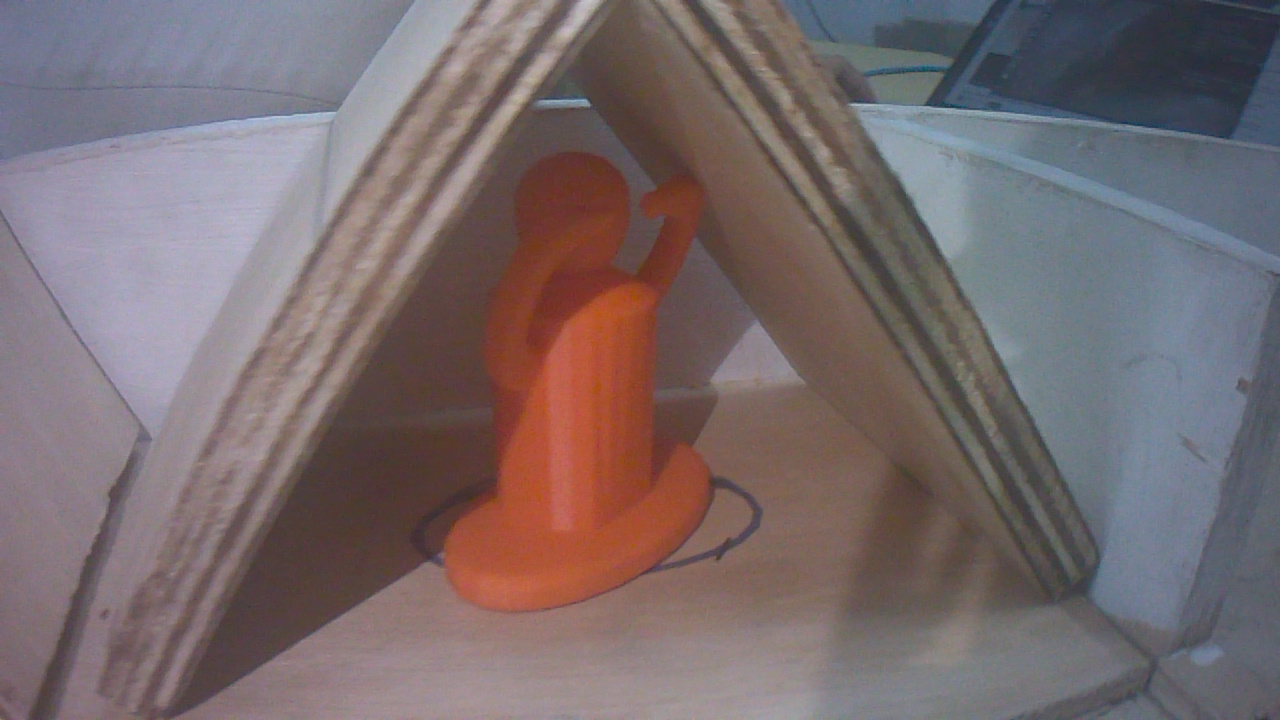real: (458, 154, 716, 609)
